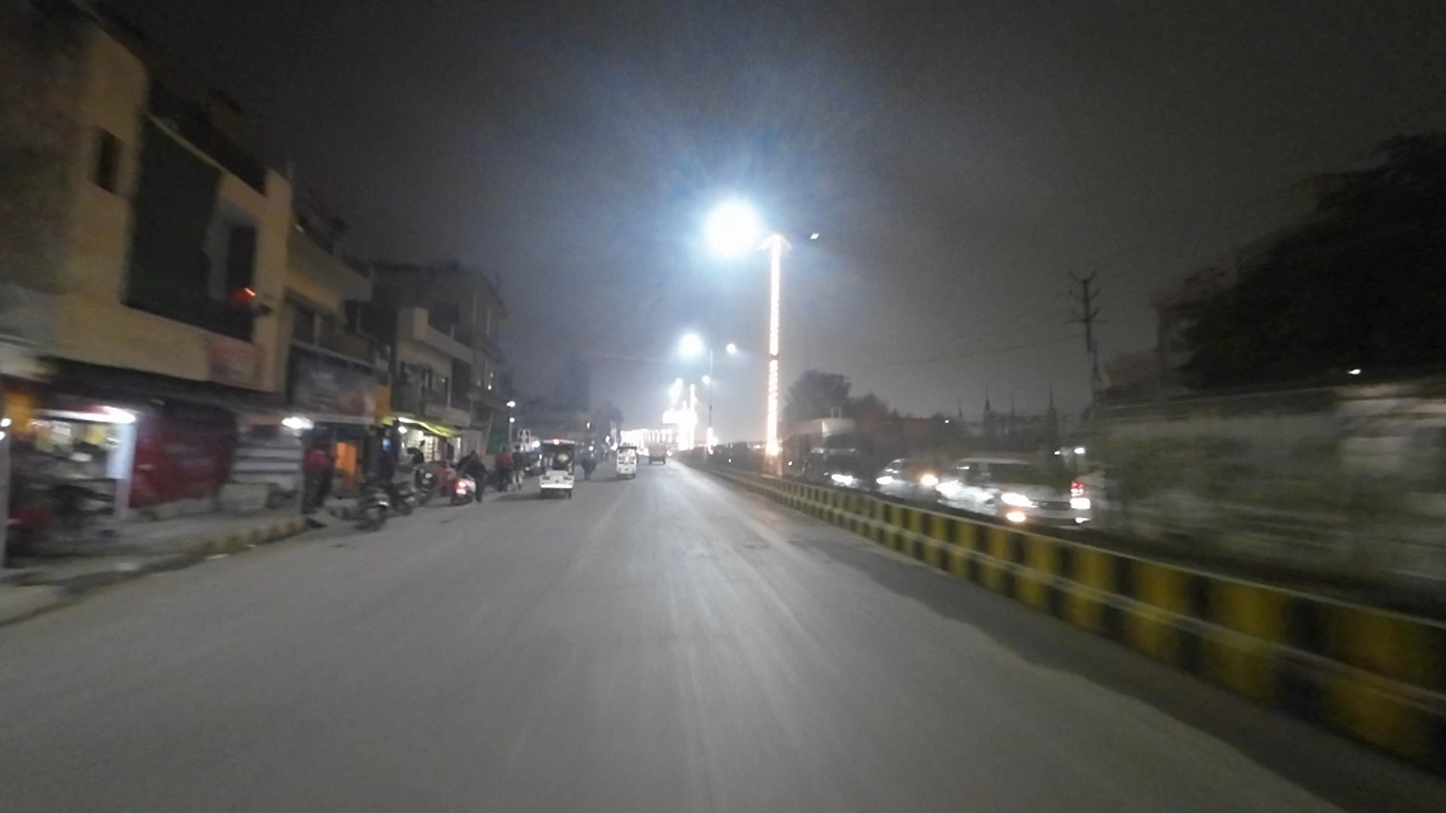streetlight: (781, 228, 826, 245)
